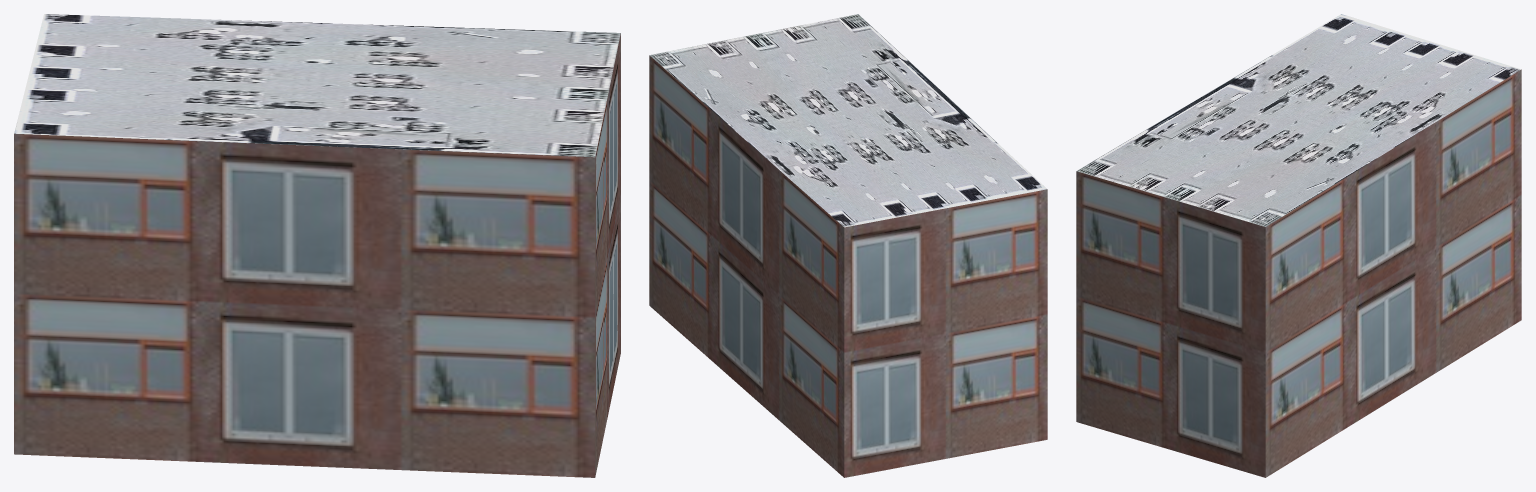
The model's file is ResTex__551.fbx.
The picture shows the model from 3 angles, left to right: view 1: azimuth 30°, elevation 25°; view 2: azimuth 150°, elevation 25°; view 3: azimuth 270°, elevation 25°; orthographic projection. The views are drawn at different scales.
Visible parts, largest first — view 1: CityEngineMaterial_19_m, CityEngineMaterial_15_m; view 2: CityEngineMaterial_19_m, CityEngineMaterial_15_m; view 3: CityEngineMaterial_19_m, CityEngineMaterial_15_m.
Part boxes in pixels (x1,y1,x2,y2): CityEngineMaterial_19_m: (14,33,620,477); CityEngineMaterial_15_m: (14,14,620,157); CityEngineMaterial_19_m: (649,55,1047,477); CityEngineMaterial_15_m: (649,14,1046,227); CityEngineMaterial_19_m: (1076,69,1521,477); CityEngineMaterial_15_m: (1076,14,1520,226).
Bounding box in the file's own units: 10.93 × 6 × 9.65.
Materials: 2 (2 with a texture image).
